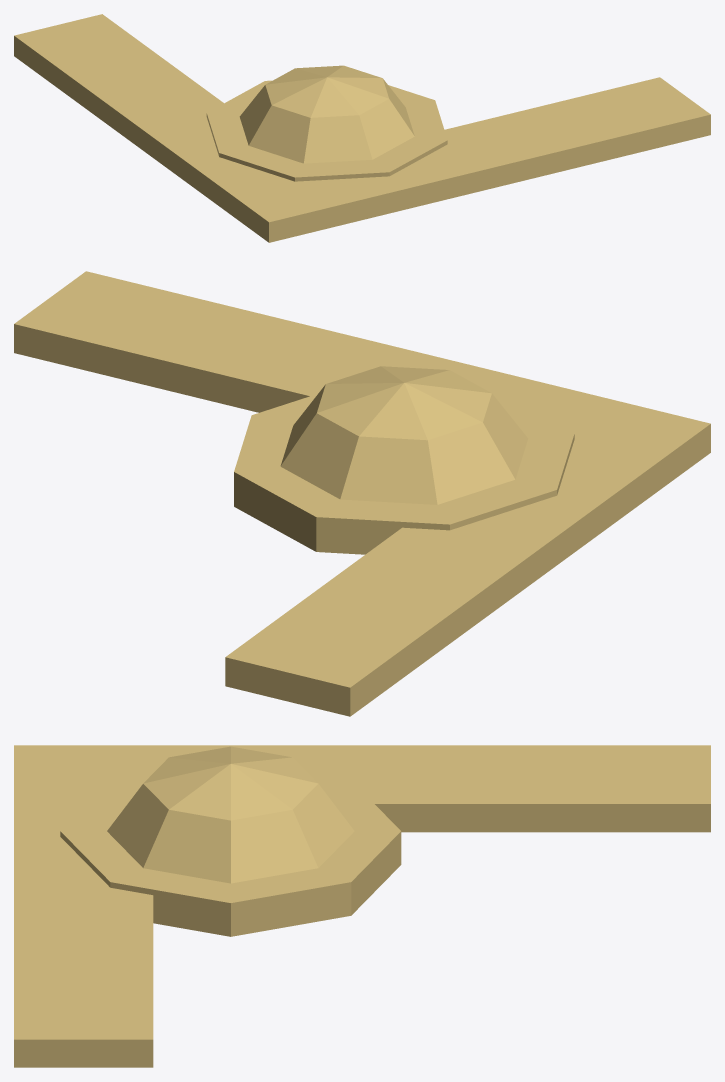
The model's file is prop-corner-boss-blank.fbx.
3 views of the same model, one above another, from view 1: azimuth 30°, elevation 25°; view 2: azimuth 150°, elevation 25°; view 3: azimuth 270°, elevation 25° (orthographic). The views are drawn at different scales.
Visible parts, largest first — view 1: prop-corner-boss-blank; view 2: prop-corner-boss-blank; view 3: prop-corner-boss-blank.
Part boxes in pixels (box(x1,y1,x2,y2)): prop-corner-boss-blank: box(14, 14, 710, 242); prop-corner-boss-blank: box(14, 271, 710, 716); prop-corner-boss-blank: box(14, 745, 710, 1067).
Bounding box in the file's own units: 4.5 × 0.72 × 4.5.
